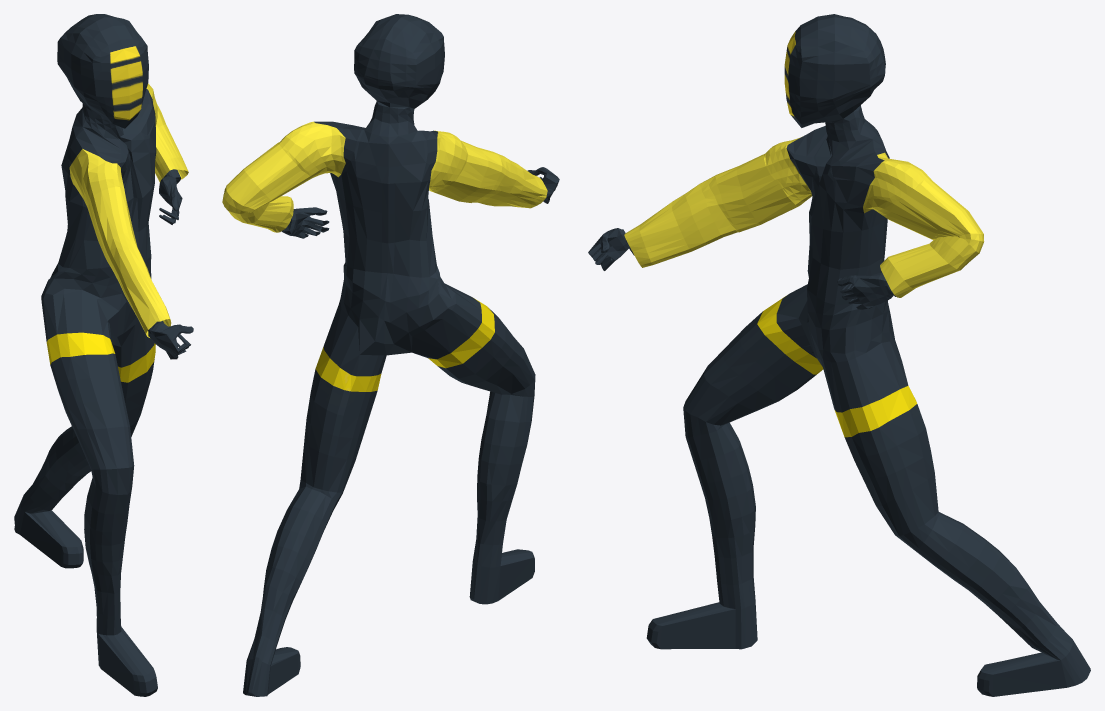
File: Sentry_WR_000001.obj
3 views of the same model, side by side, from view 1: azimuth 30°, elevation 25°; view 2: azimuth 150°, elevation 25°; view 3: azimuth 270°, elevation 25° (orthographic). The views are drawn at different scales.
Parts seen in each view (by area): view 1: Cube; view 2: Cube; view 3: Cube.
Boxes of the visible parts, <box> form: Cube: <box>14,14,193,696</box>; Cube: <box>222,14,559,696</box>; Cube: <box>588,14,1090,696</box>.
Bounding box in the file's own units: 1.18 × 3.61 × 2.52.
